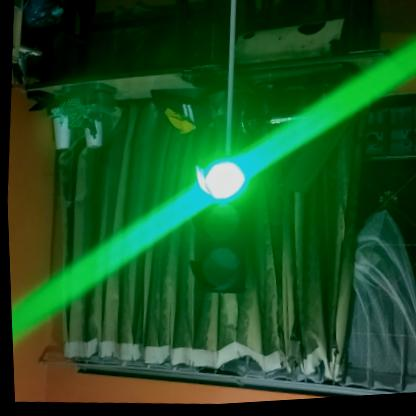green: (183, 156, 252, 299)
